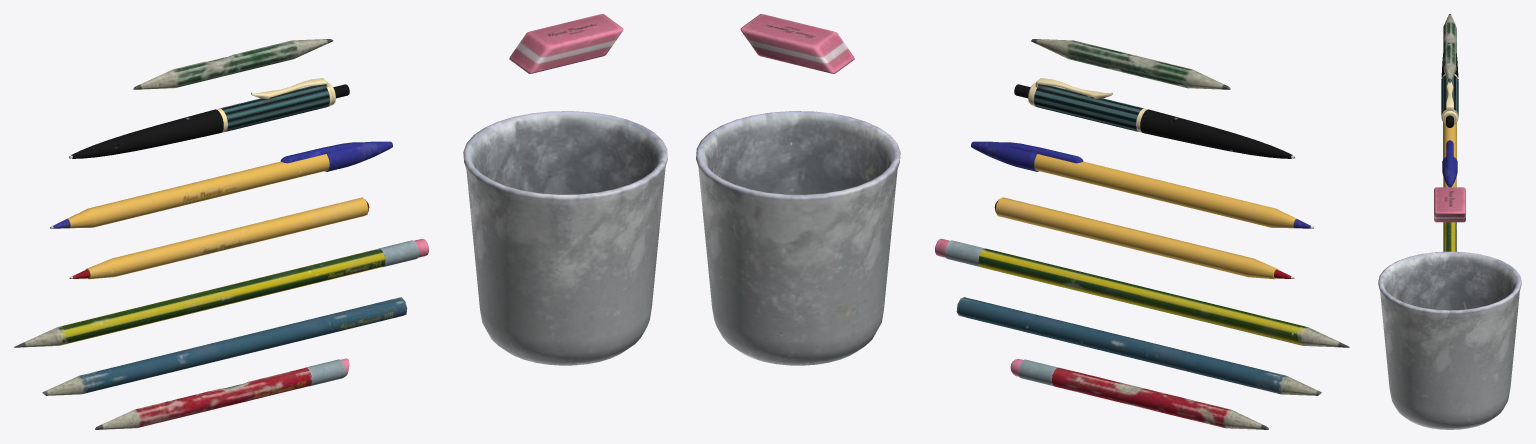
File: stationery_supplies.glb
3 renders of one model, left to right at view 1: azimuth 30°, elevation 25°; view 2: azimuth 150°, elevation 25°; view 3: azimuth 270°, elevation 25°, orthographic. The views are drawn at different scales.
Parts seen in each view (by area): view 1: stationery_supplies_pencilcup, stationery_supplies_pencil_new_a, stationery_supplies_pencil_new_b, stationery_supplies_pen_blue, stationery_supplies_pen_fancy, stationery_supplies_pen_red, stationery_supplies_pencil_used, stationery_supplies_eraser, stationery_supplies_pencil_old; view 2: stationery_supplies_pencilcup, stationery_supplies_pencil_new_a, stationery_supplies_pencil_new_b, stationery_supplies_pen_blue, stationery_supplies_pen_fancy, stationery_supplies_pen_red, stationery_supplies_pencil_used, stationery_supplies_eraser, stationery_supplies_pencil_old; view 3: stationery_supplies_pencilcup, stationery_supplies_eraser, stationery_supplies_pen_fancy, stationery_supplies_pen_blue, stationery_supplies_pencil_old, stationery_supplies_pencil_new_a.
Part boxes in pixels (x1,y1,x2,y2): stationery_supplies_pencilcup: [463, 111, 667, 365]; stationery_supplies_pencil_new_a: [14, 238, 428, 347]; stationery_supplies_pencil_new_b: [42, 297, 407, 395]; stationery_supplies_pen_blue: [50, 141, 392, 228]; stationery_supplies_pen_fancy: [69, 78, 349, 158]; stationery_supplies_pen_red: [69, 197, 369, 279]; stationery_supplies_pencil_used: [95, 358, 349, 429]; stationery_supplies_eraser: [509, 14, 623, 73]; stationery_supplies_pencil_old: [133, 39, 333, 89]; stationery_supplies_pencilcup: [696, 111, 900, 365]; stationery_supplies_pencil_new_a: [935, 238, 1349, 347]; stationery_supplies_pencil_new_b: [956, 297, 1321, 395]; stationery_supplies_pen_blue: [971, 141, 1313, 228]; stationery_supplies_pen_fancy: [1014, 78, 1294, 158]; stationery_supplies_pen_red: [994, 197, 1294, 279]; stationery_supplies_pencil_used: [1010, 359, 1268, 429]; stationery_supplies_eraser: [740, 14, 854, 73]; stationery_supplies_pencil_old: [1031, 39, 1230, 89]; stationery_supplies_pencilcup: [1378, 251, 1521, 429]; stationery_supplies_eraser: [1434, 187, 1465, 222]; stationery_supplies_pen_fancy: [1441, 53, 1458, 127]; stationery_supplies_pen_blue: [1442, 122, 1457, 187]; stationery_supplies_pencil_old: [1443, 14, 1456, 82]; stationery_supplies_pencil_new_a: [1443, 222, 1456, 251].
Size of the model in its own units: 0.3019 by 0.1643 by 0.0837.
1 material, 1 textured.
